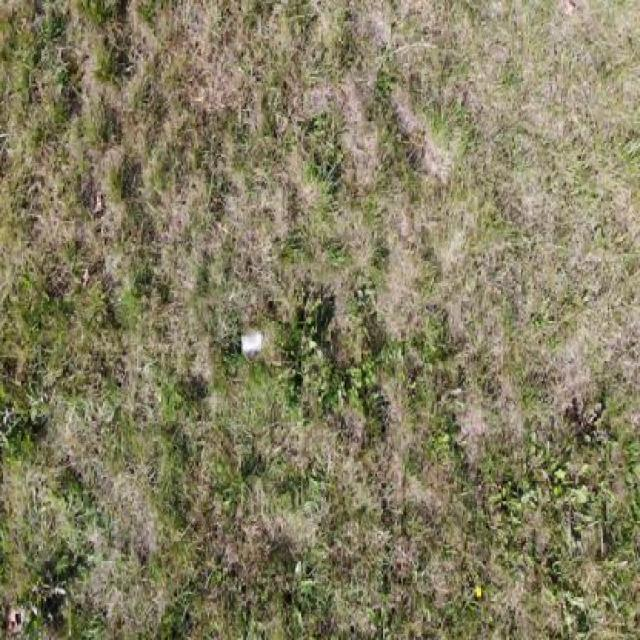Garbage: (240, 330, 262, 356)
